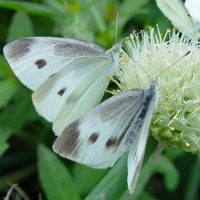insect: (53, 78, 157, 192), (4, 0, 147, 47), (7, 12, 32, 41)
